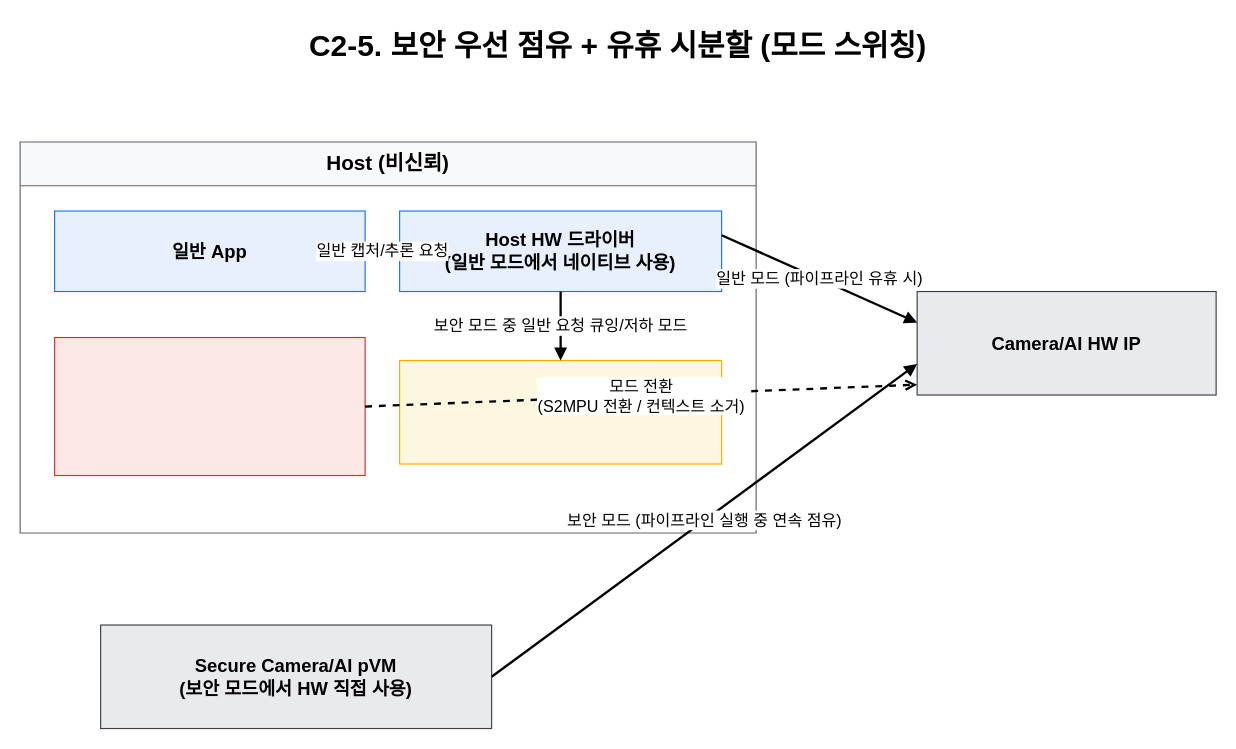
Image size: 1236x749. Some labels were removed from this diagram. Here are the shapes that lost their labels. From the top down, the centre of each, then its label:
At (x=209, y=406): "모드 관리자 (Framework) 파이프라인 시작/종료 시 모드 전환 (수명주기당 2회)".
At (x=560, y=411): "일반 요청 대기열 (보안 모드 중 큐잉)".
